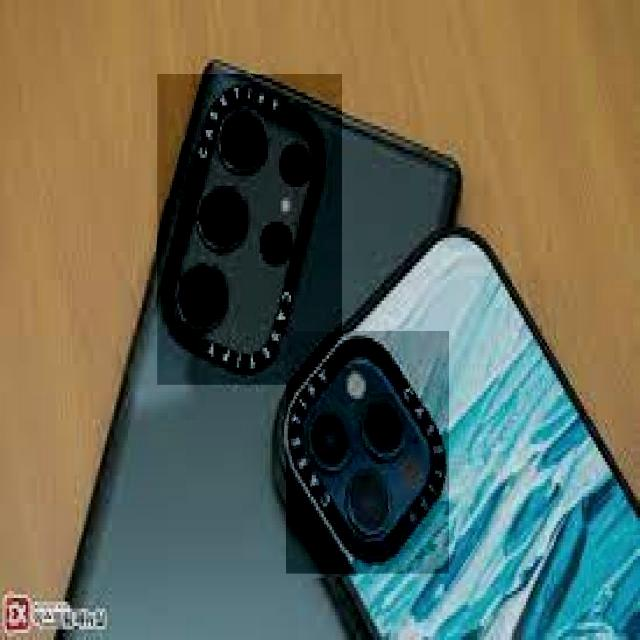lens: (161, 87, 325, 368), (298, 356, 433, 540)
phone: (52, 56, 460, 640), (267, 230, 640, 640)
